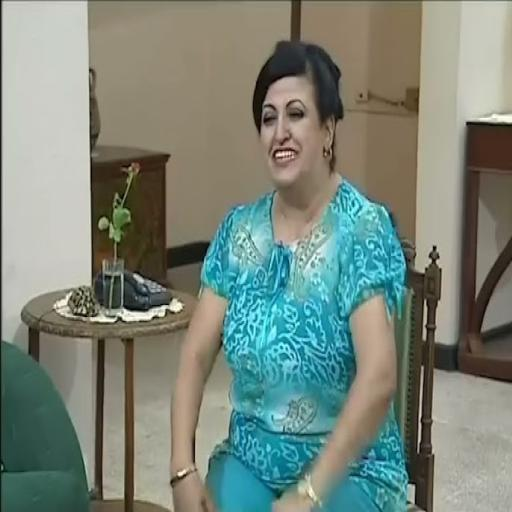jannet: (259, 75, 338, 209)
